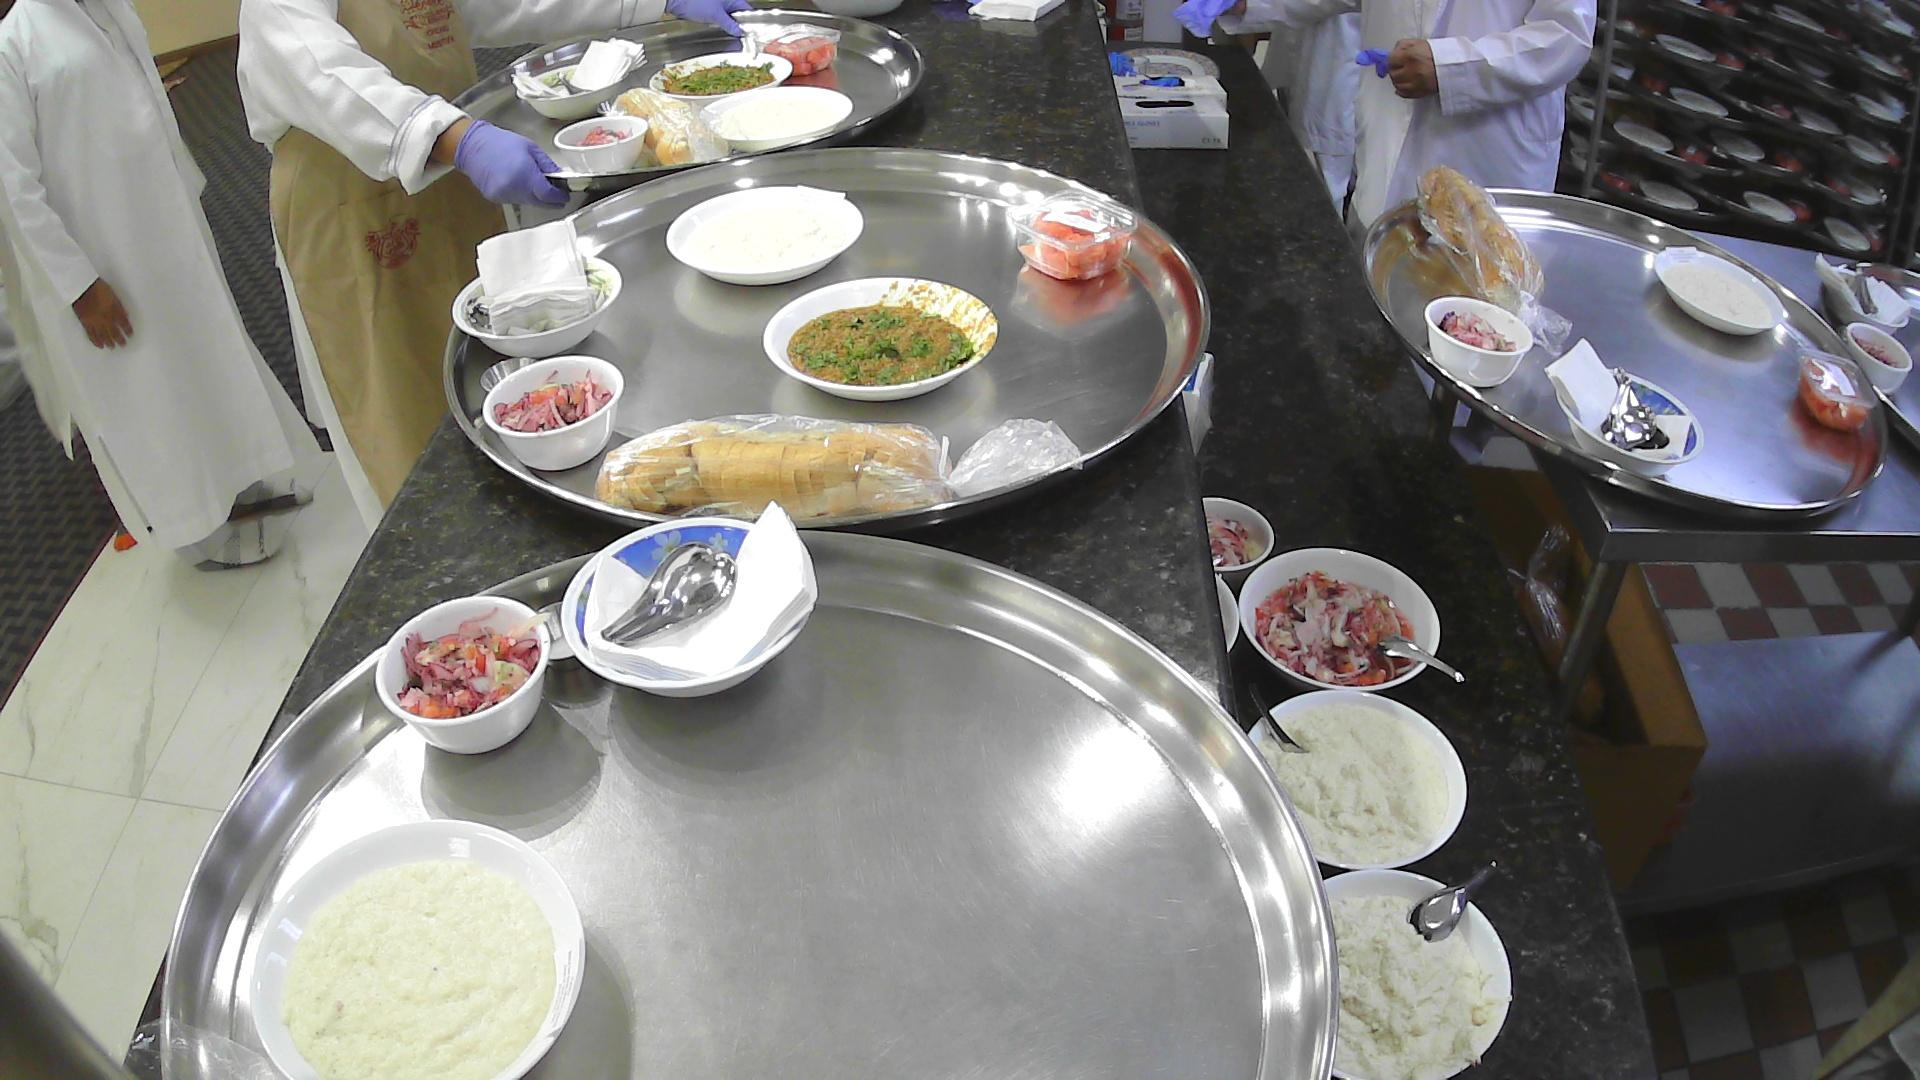thaal: (155, 523, 1341, 1080), (440, 142, 1214, 536), (1358, 186, 1891, 528), (447, 9, 926, 193), (1816, 259, 1920, 461)
